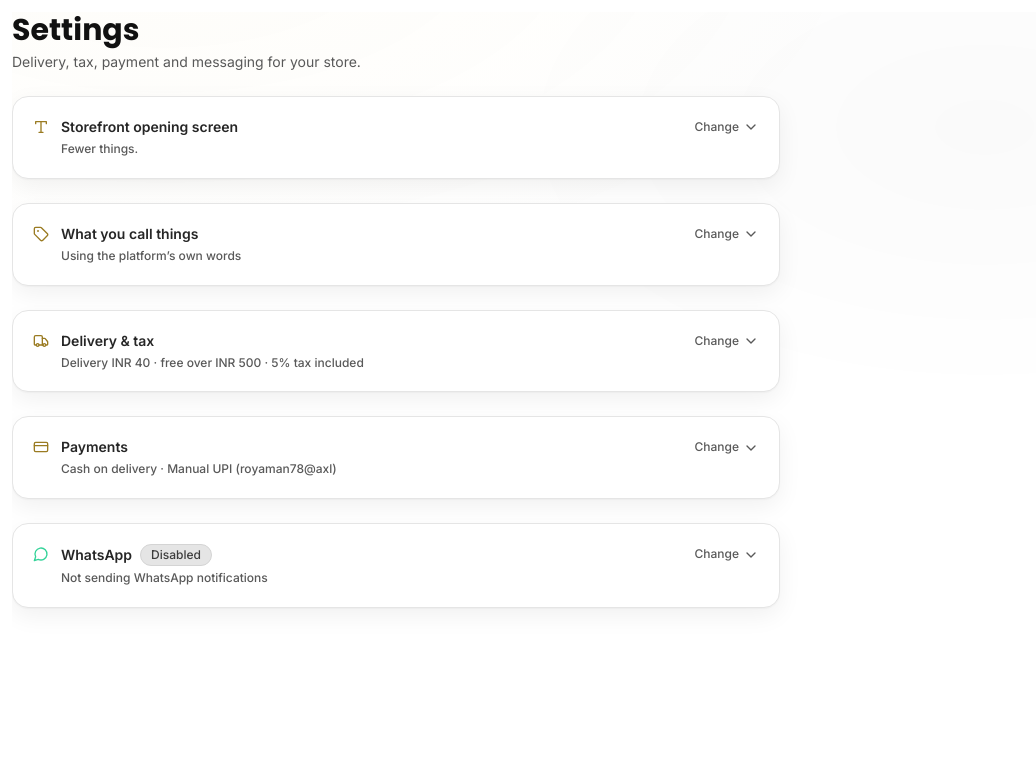
Test: AdminSettings — folded sections › closes the open section when another is opened
Expected: the text "Delivery & tax" is shown, [61,331,154,351]
Click the button "Delivery & tax" at [108, 340], box [33,331,759,371]
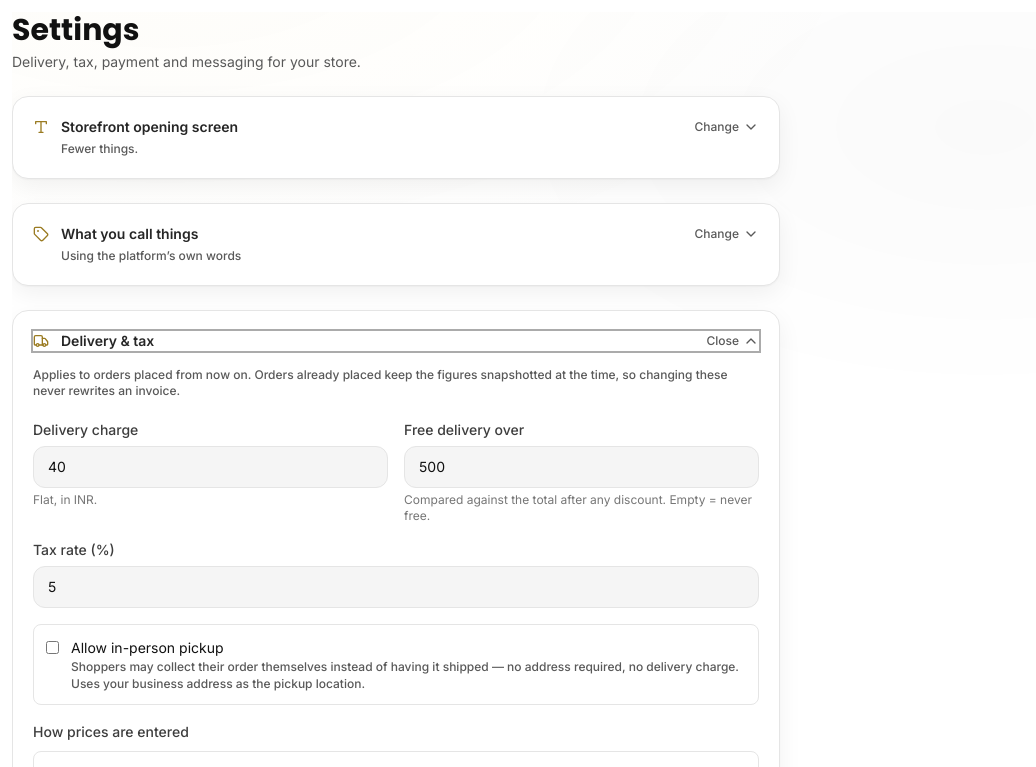
Click the button "What you call things Using the platform’s own words Change" at [130, 233], box [33,224,759,265]
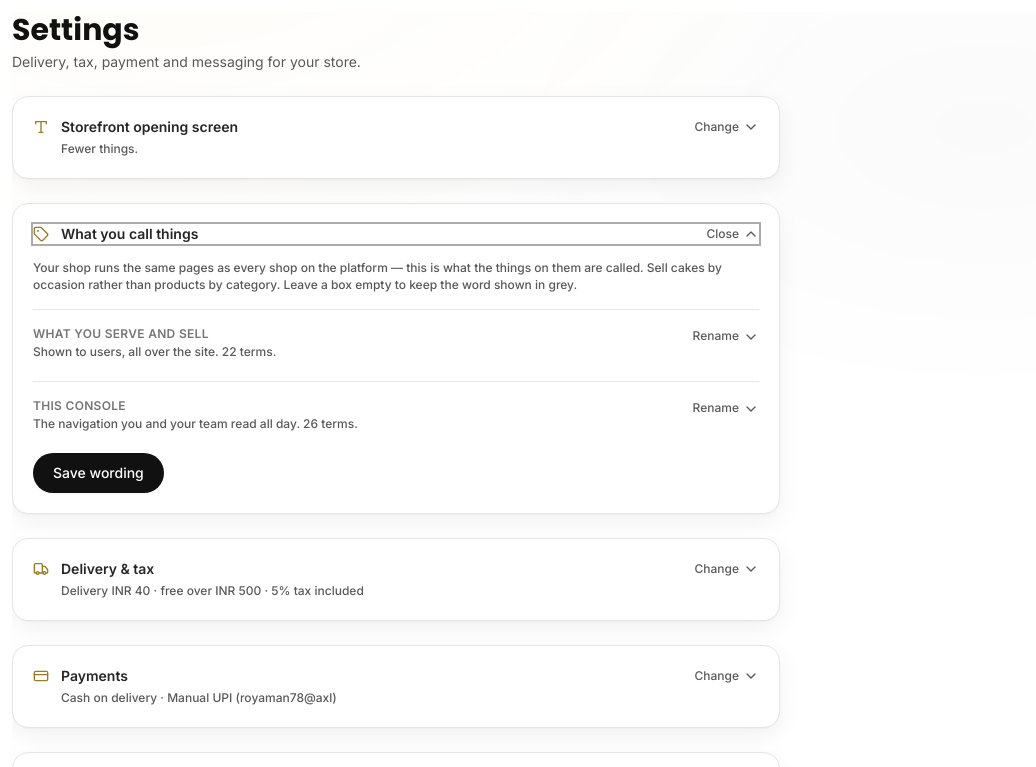
Now the button "Save wording" is shown, box [33,453,164,493]
